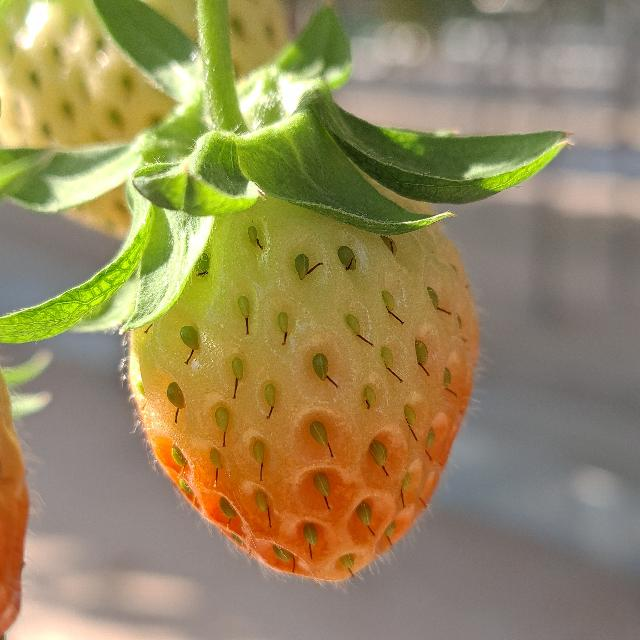Health_75: (128, 204, 480, 580)
